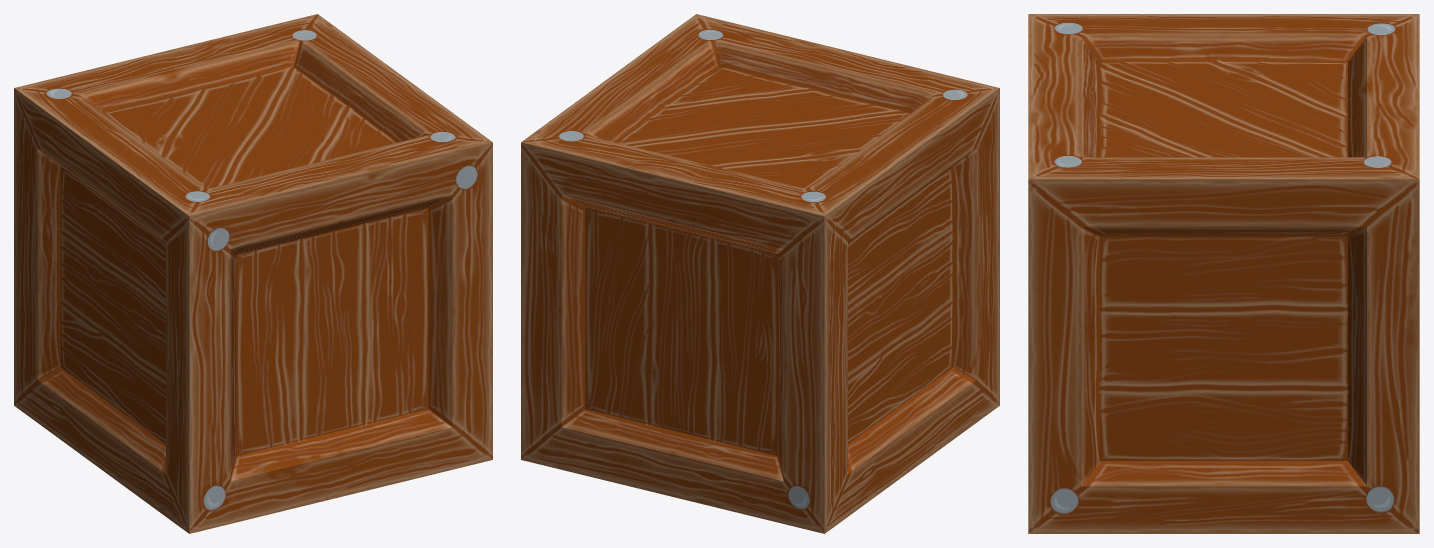
3 renders of one model, left to right at view 1: azimuth 30°, elevation 25°; view 2: azimuth 150°, elevation 25°; view 3: azimuth 270°, elevation 25°, orthographic. The views are drawn at different scales.
Visible parts, largest first — view 1: box; view 2: box; view 3: box.
Boxes of the visible parts, box(x1,y1,x2,y2) form: box: box(14, 14, 492, 533); box: box(521, 14, 999, 533); box: box(1028, 14, 1419, 533).
Size of what is drawn, in the model's own units: 0.6345 by 0.6345 by 0.6345.
Materials: 1 (1 with a texture image).
